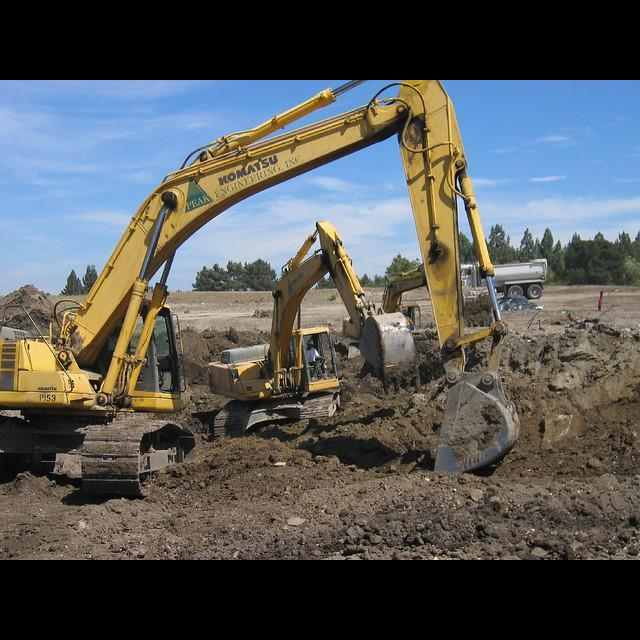Excavator: (3, 81, 522, 497), (206, 221, 423, 442)
Hardhat: (307, 340, 315, 345)
NO-Mask: (308, 347, 313, 351)
NO-Safety Vest: (306, 349, 316, 363)
Person: (304, 340, 326, 376)
dump truck: (458, 258, 548, 301)
